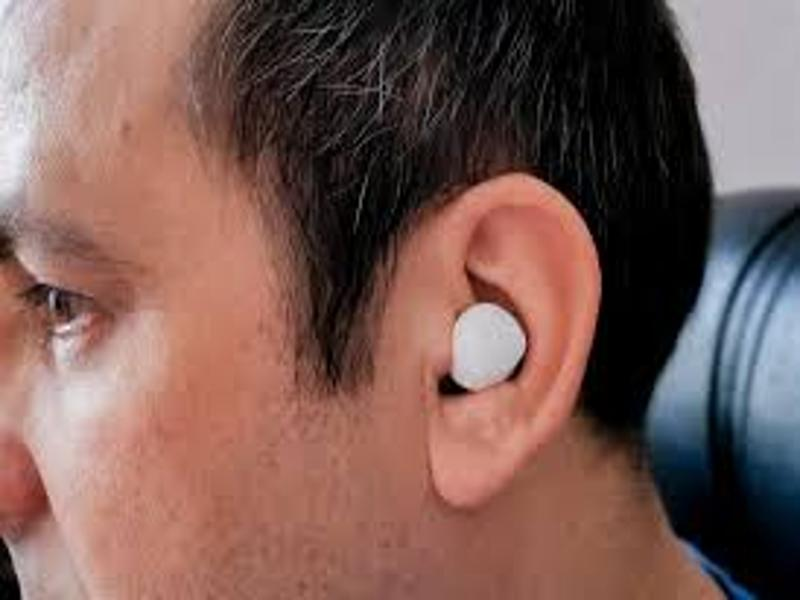headphone: (447, 300, 530, 393)
